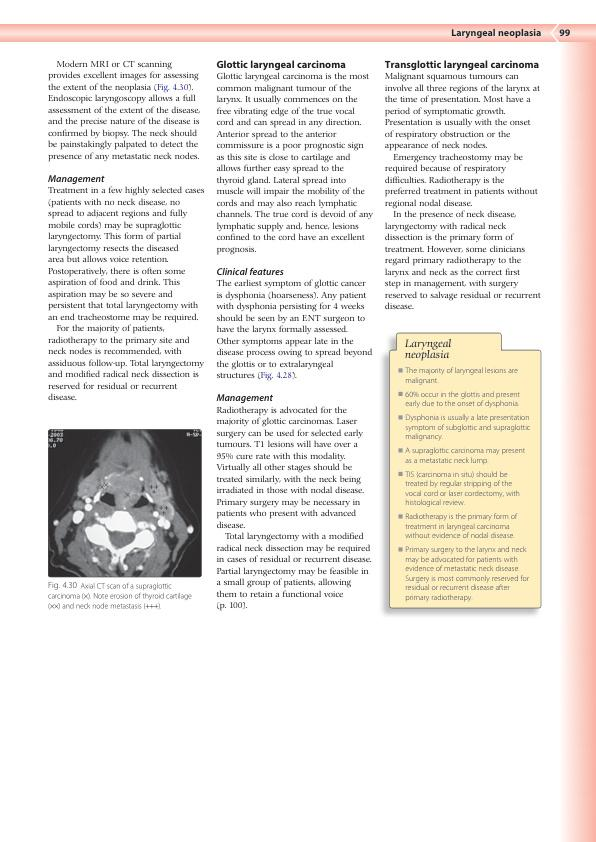caption: (47, 581, 192, 611), (404, 338, 454, 361)
header: (450, 28, 542, 40)
image: (47, 428, 203, 579)
list: (396, 365, 531, 603)
sub-section-heading: (384, 59, 540, 71), (215, 59, 347, 71), (47, 173, 106, 185), (215, 393, 274, 404), (216, 267, 284, 276)
text: (383, 72, 542, 311), (47, 186, 205, 403), (216, 406, 372, 611), (216, 72, 373, 257), (46, 59, 200, 163), (216, 279, 373, 381)
